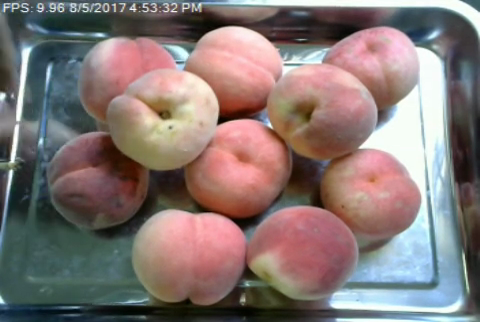Peach: (266, 64, 381, 163), (105, 69, 216, 168), (245, 205, 359, 301), (182, 119, 291, 218), (134, 210, 247, 303), (46, 130, 149, 230), (319, 148, 422, 241), (184, 25, 283, 115), (81, 34, 172, 125), (320, 24, 418, 103)
